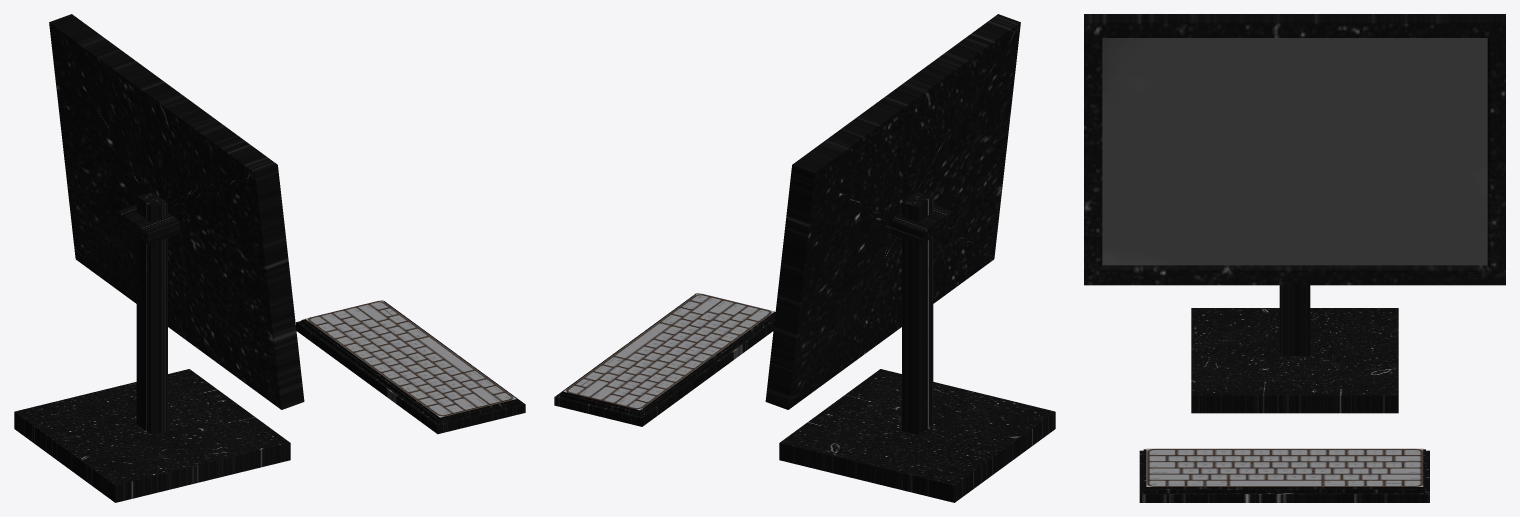
3 renders of one model, left to right at view 1: azimuth 30°, elevation 25°; view 2: azimuth 150°, elevation 25°; view 3: azimuth 270°, elevation 25°, orthographic. The views are drawn at different scales.
Parts seen in each view (by area): view 1: pc_ekran, ekran_tutacagı, klavye; view 2: pc_ekran, ekran_tutacagı, klavye; view 3: pc_ekran, ekran_tutacagı, klavye.
Boxes of the visible parts, x1,y1,x2,y2 form: pc_ekran: (49, 14, 304, 409); ekran_tutacagı: (14, 192, 290, 502); klavye: (296, 300, 525, 434); pc_ekran: (765, 14, 1020, 409); ekran_tutacagı: (779, 192, 1055, 502); klavye: (554, 293, 775, 426); pc_ekran: (1084, 14, 1505, 285); ekran_tutacagı: (1191, 285, 1398, 413); klavye: (1139, 448, 1429, 502).
Bounding box in the file's own units: 2505 × 2173 × 2321.
3 materials, 3 textured.
